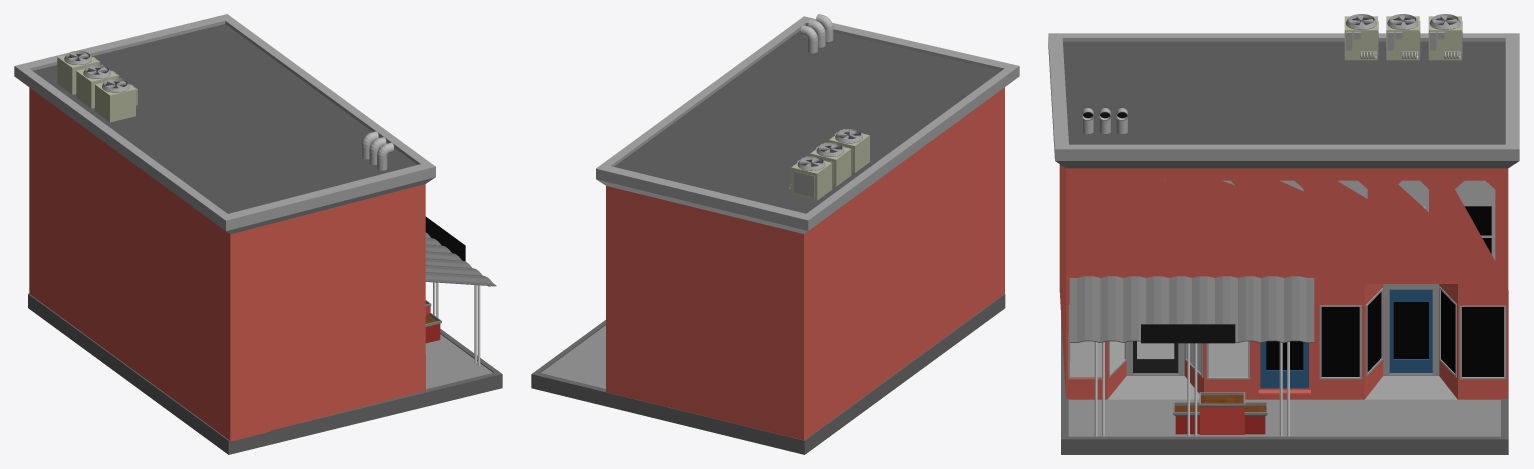
The model's file is Building #3.fbx.
3 renders of one model, left to right at view 1: azimuth 30°, elevation 25°; view 2: azimuth 150°, elevation 25°; view 3: azimuth 270°, elevation 25°, orthographic. The views are drawn at different scales.
Parts seen in each view (by area): view 1: Cube; view 2: Cube; view 3: Cube.
Boxes of the visible parts, x1,y1,x2,y2 form: Cube: (14, 14, 502, 454); Cube: (531, 14, 1019, 454); Cube: (1048, 14, 1519, 454).
Bounding box in the file's own units: 2278 × 2064 × 2956.
